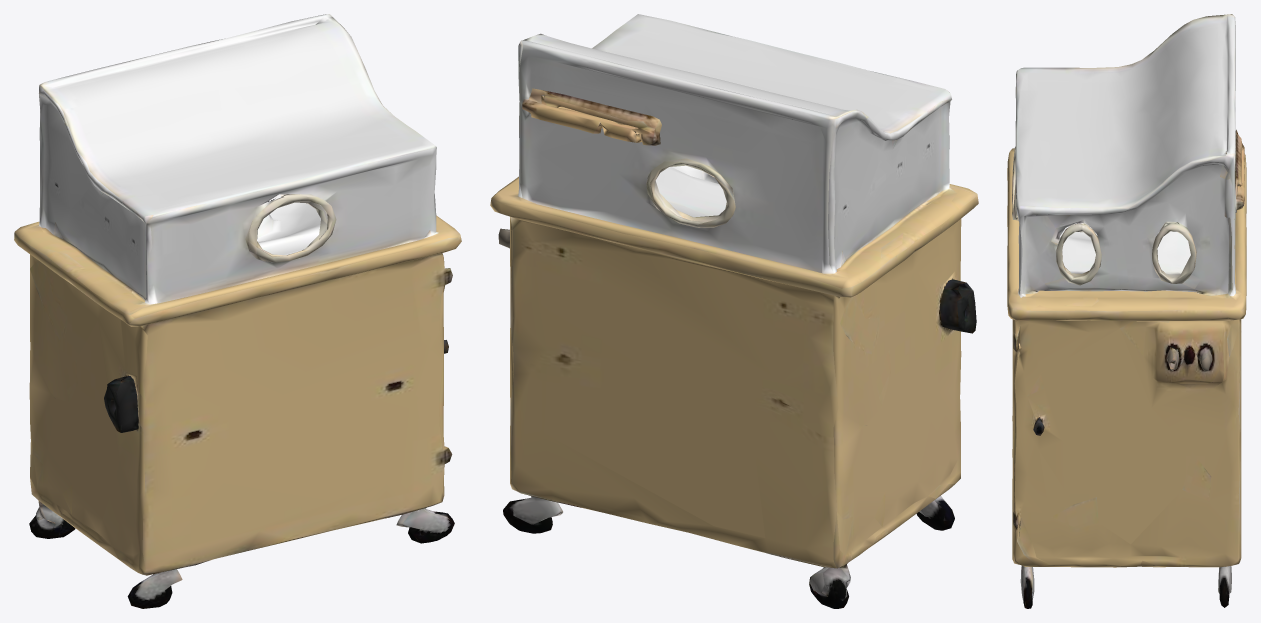
The model's file is incubadora_1967.glb.
3 views of the same model, side by side, from view 1: azimuth 30°, elevation 25°; view 2: azimuth 150°, elevation 25°; view 3: azimuth 270°, elevation 25° (orthographic). The views are drawn at different scales.
Visible parts, largest first — view 1: geometry_0; view 2: geometry_0; view 3: geometry_0.
Boxes of the visible parts, x1,y1,x2,y2 form: geometry_0: [14, 14, 461, 608]; geometry_0: [490, 14, 978, 608]; geometry_0: [1007, 14, 1246, 608].
Size of the model in its own units: 1 by 1.25 by 0.6.
Materials: 1 (1 with a texture image).
